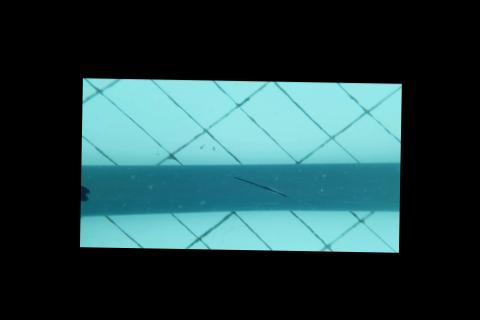kebocoran: (79, 184, 91, 204)
keretakan: (231, 174, 287, 197)
